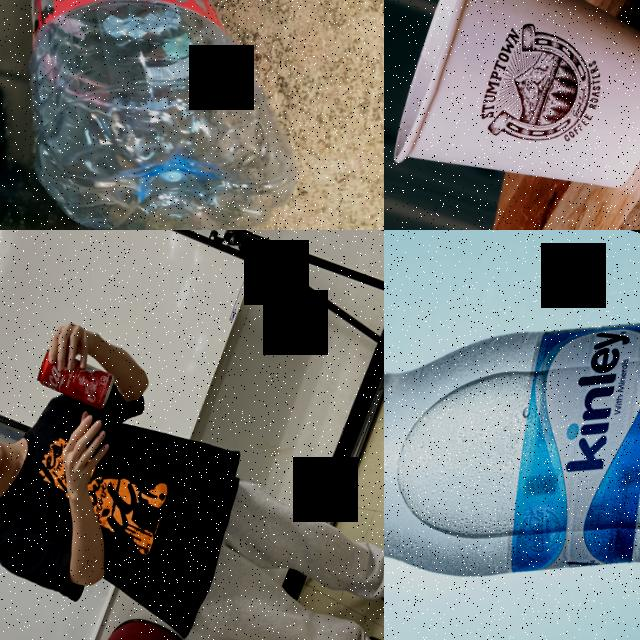bottle: (384, 230, 640, 640), (0, 0, 384, 230)
can: (32, 344, 118, 412)
cup: (384, 0, 640, 230)
